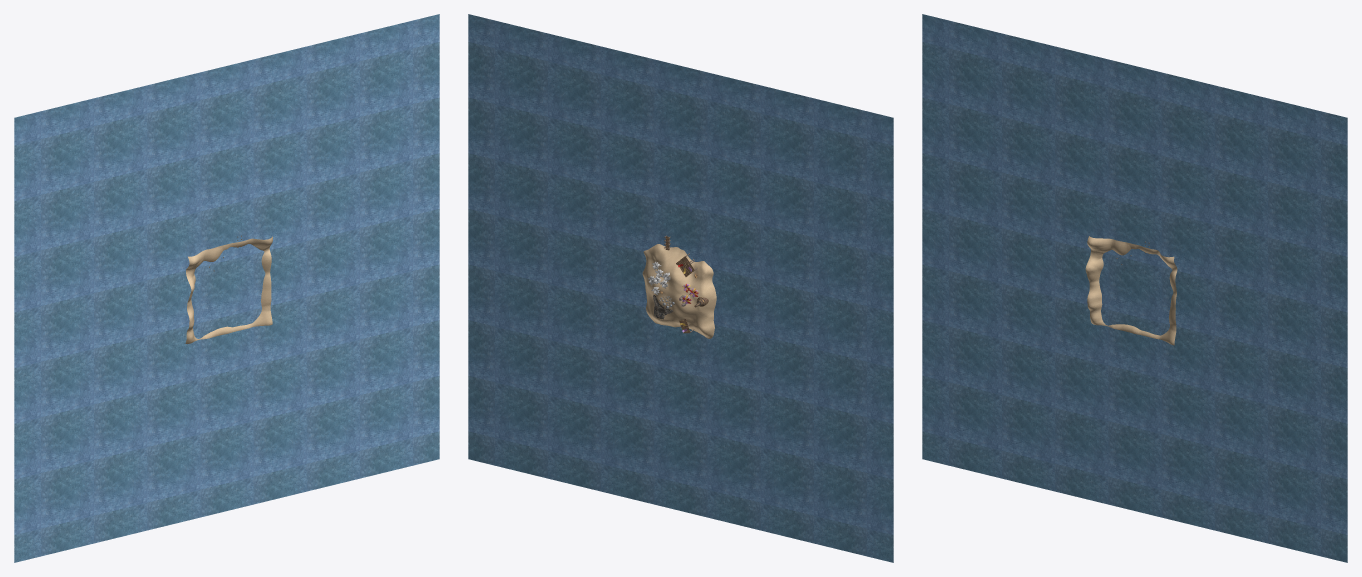
The model's file is beach-scene.dae.
3 renders of one model, left to right at view 1: azimuth 30°, elevation 25°; view 2: azimuth 150°, elevation 25°; view 3: azimuth 330°, elevation 25°, orthographic.
Visible parts, largest first — view 1: @Water, @Sand; view 2: @Water, @Sand; view 3: @Water, @Sand.
Part boxes in pixels (x1,y1,x2,y2): @Water: (14,14,439,562); @Sand: (185,236,272,343); @Water: (468,14,893,562); @Sand: (642,244,716,338); @Water: (922,14,1347,562); @Sand: (1085,236,1177,345).
Size of the model in its own units: 1000 by 84.77 by 1000.
